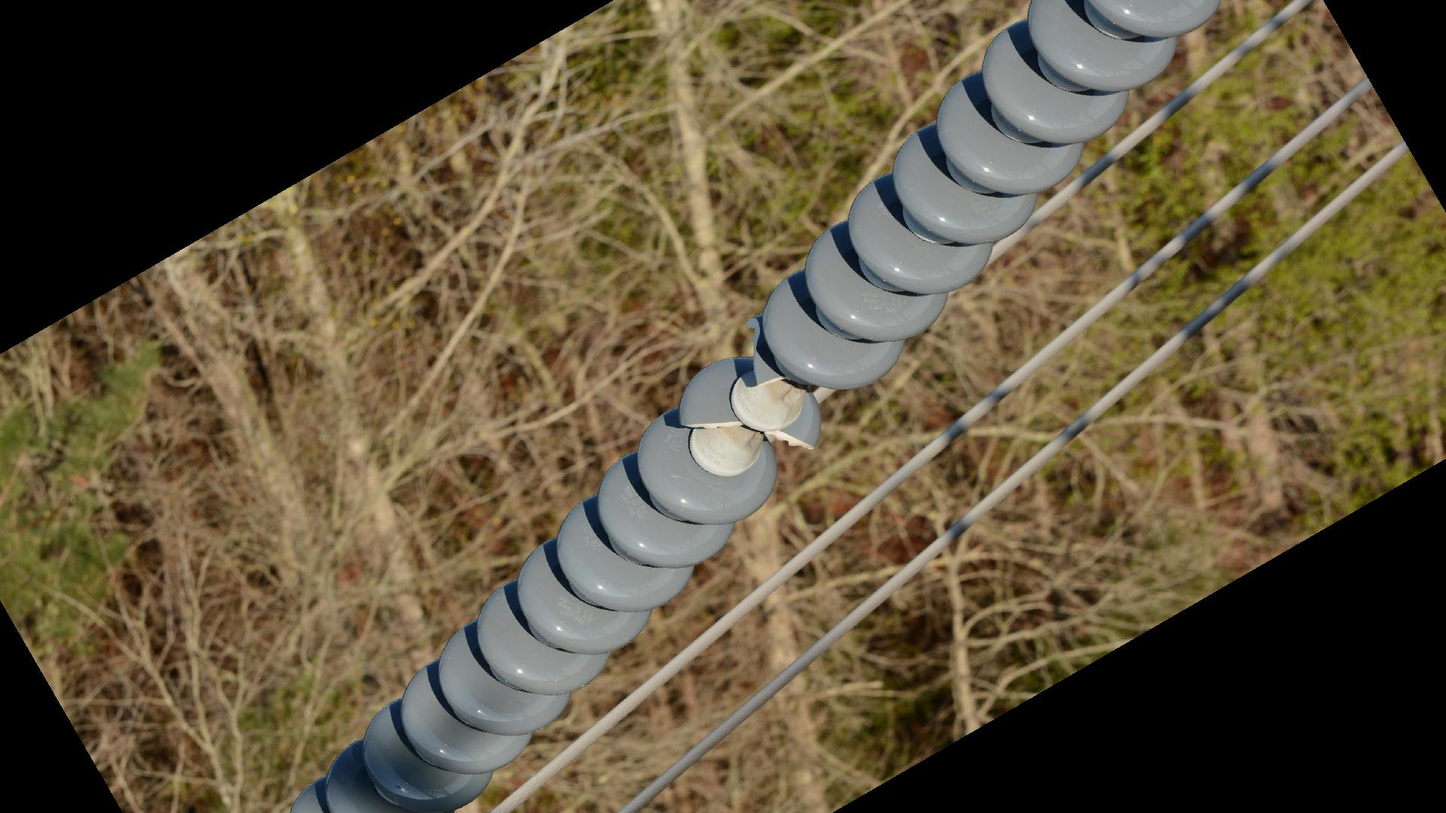insulator: (279, 1, 1226, 813)
insulator_breakage: (676, 416, 819, 456), (741, 312, 787, 392)
